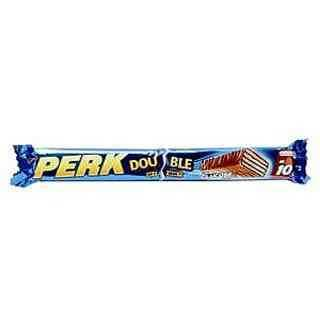Perk: (10, 142, 309, 186)
